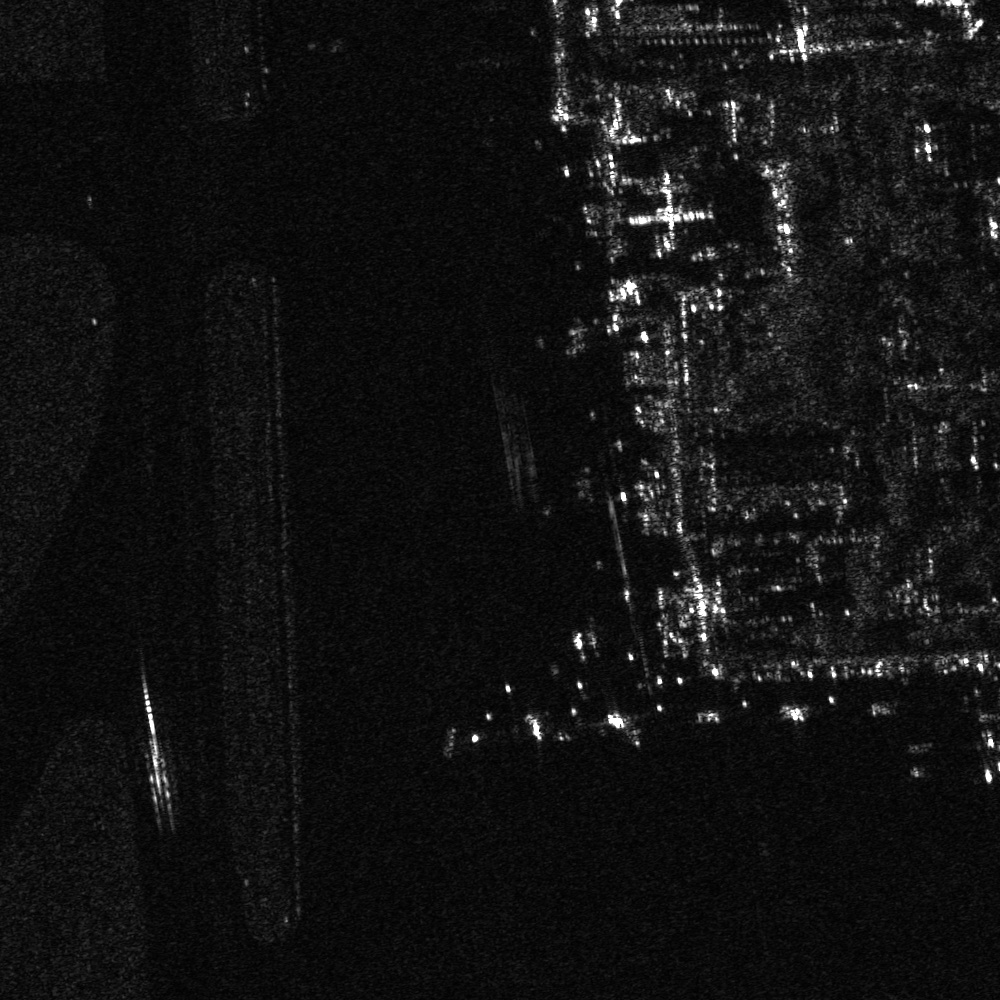ARJ21: (957, 707, 999, 793), (302, 27, 356, 58)
